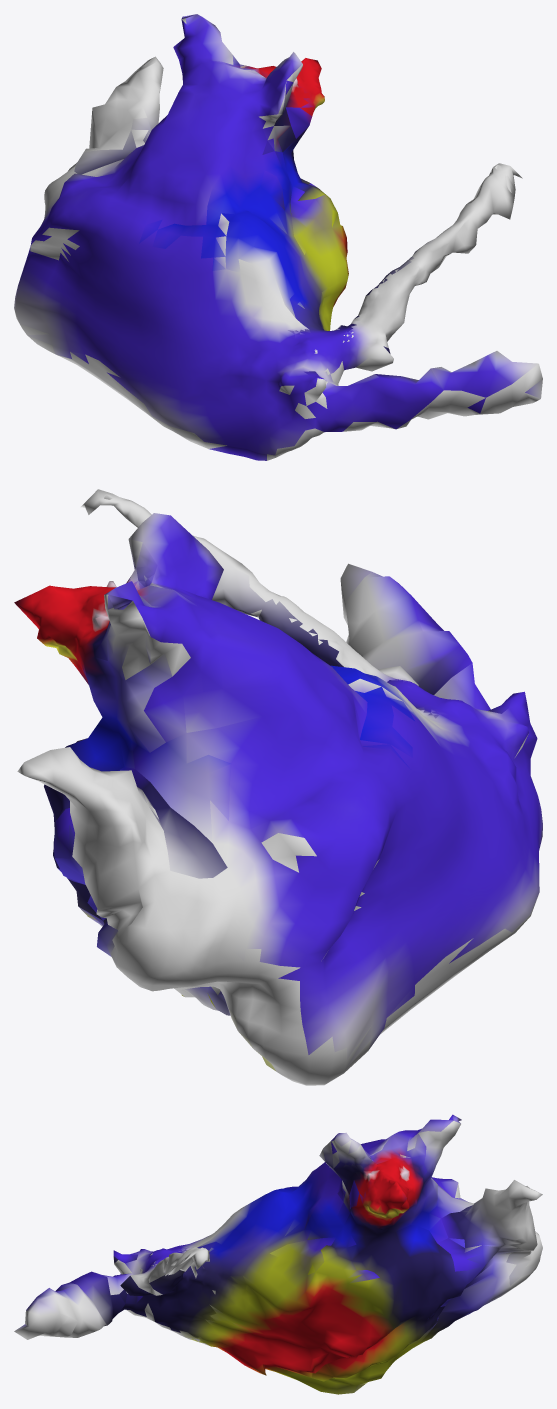
The model's file is chien.glb.
3 views of the same model, one above another, from view 1: azimuth 30°, elevation 25°; view 2: azimuth 150°, elevation 25°; view 3: azimuth 270°, elevation 25° (orthographic). The views are drawn at different scales.
Parts seen in each view (by area): view 1: Chien; view 2: Chien; view 3: Chien.
Boxes of the visible parts, box(x1,y1,x2,y2) form: Chien: box(14, 14, 542, 460); Chien: box(14, 489, 542, 1085); Chien: box(14, 1114, 542, 1394).
Size of the model in its own units: 0.7829 by 0.6996 by 1.24.
